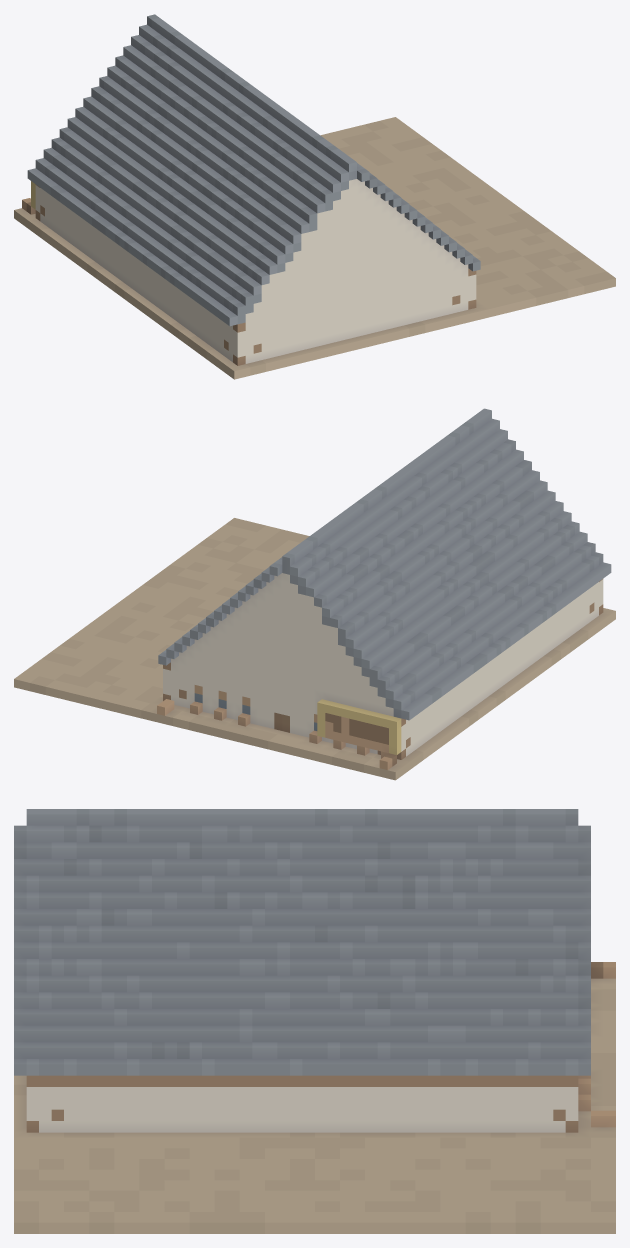
File: university.lite.glb
3 renders of one model, top to bottom at view 1: azimuth 30°, elevation 25°; view 2: azimuth 150°, elevation 25°; view 3: azimuth 270°, elevation 25°, orthographic. The views are drawn at different scales.
Parts seen in each view (by area): view 1: university; view 2: university; view 3: university.
Part boxes in pixels (x1,y1,x2,y2): university: (14,14,615,379); university: (14,408,615,780); university: (14,809,615,1233).
Size of the model in its own units: 12 by 5.5 by 12.
